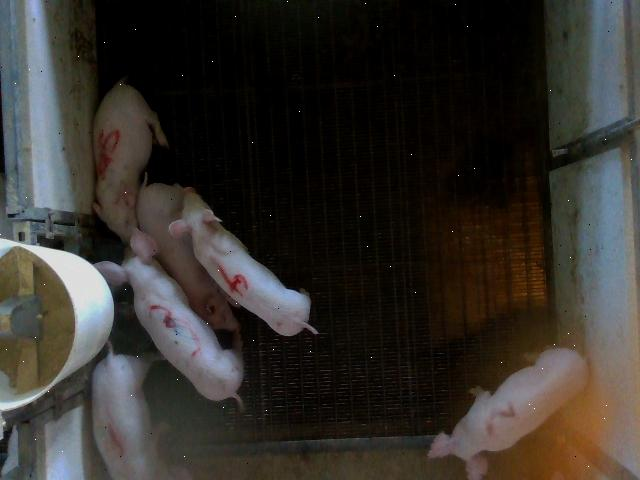pig-1: (91, 349, 155, 479)
pig-2: (428, 348, 588, 479)
pig-3: (96, 229, 242, 401)
pig-4: (169, 189, 318, 336)
pig-5: (94, 78, 169, 243)
